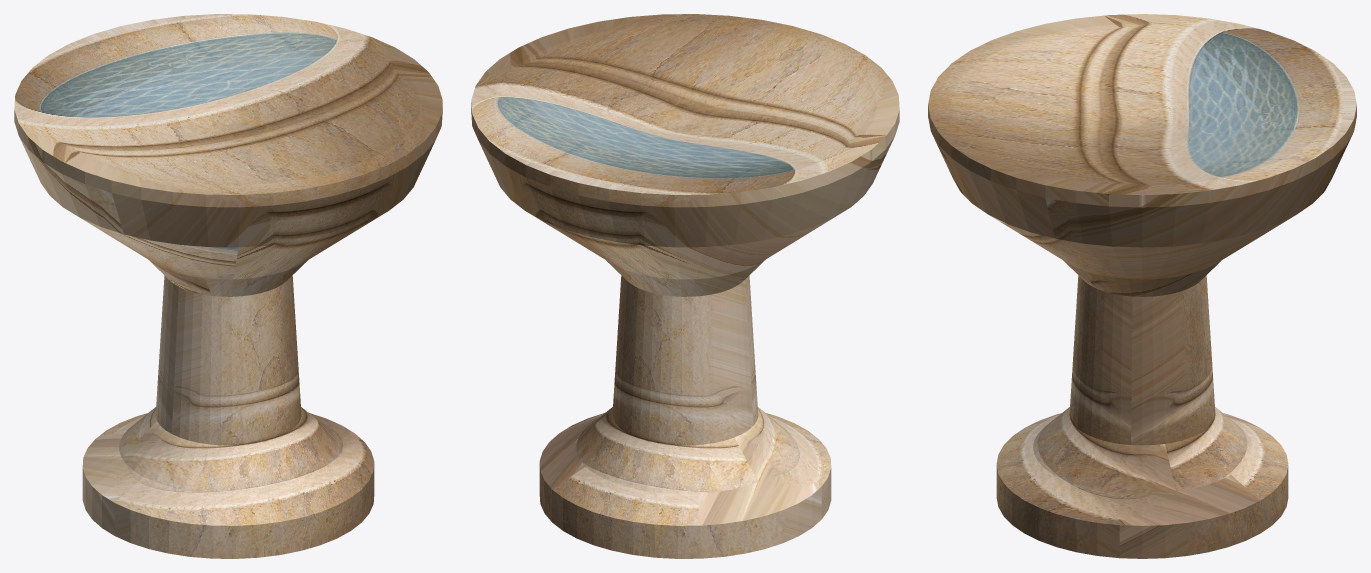
File: v3-chapel-font.glb
3 renders of one model, left to right at view 1: azimuth 30°, elevation 25°; view 2: azimuth 150°, elevation 25°; view 3: azimuth 270°, elevation 25°, orthographic.
Visible parts, largest first — view 1: v3-chapel-font; view 2: v3-chapel-font; view 3: v3-chapel-font.
Part boxes in pixels (<box>): v3-chapel-font: <box>14,14,442,558</box>; v3-chapel-font: <box>471,14,899,558</box>; v3-chapel-font: <box>928,14,1356,558</box>.
Bounding box in the file's own units: 0.94 × 0.95 × 0.94.
Materials: 1 (1 with a texture image).
